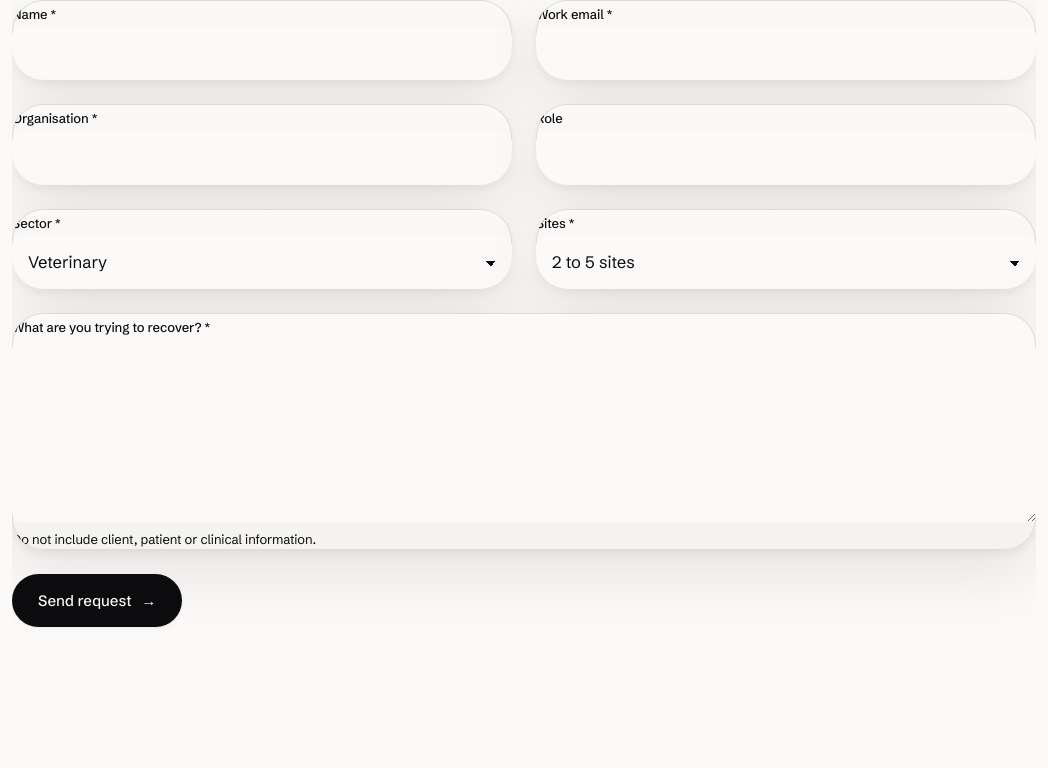
Test: AssessmentForm — configured › reports a network failure rather than silently succeeding
Step 1. Type "Jordan Ellis" into the field labelled "Name *" → [262, 53], box [12,26,512,80]
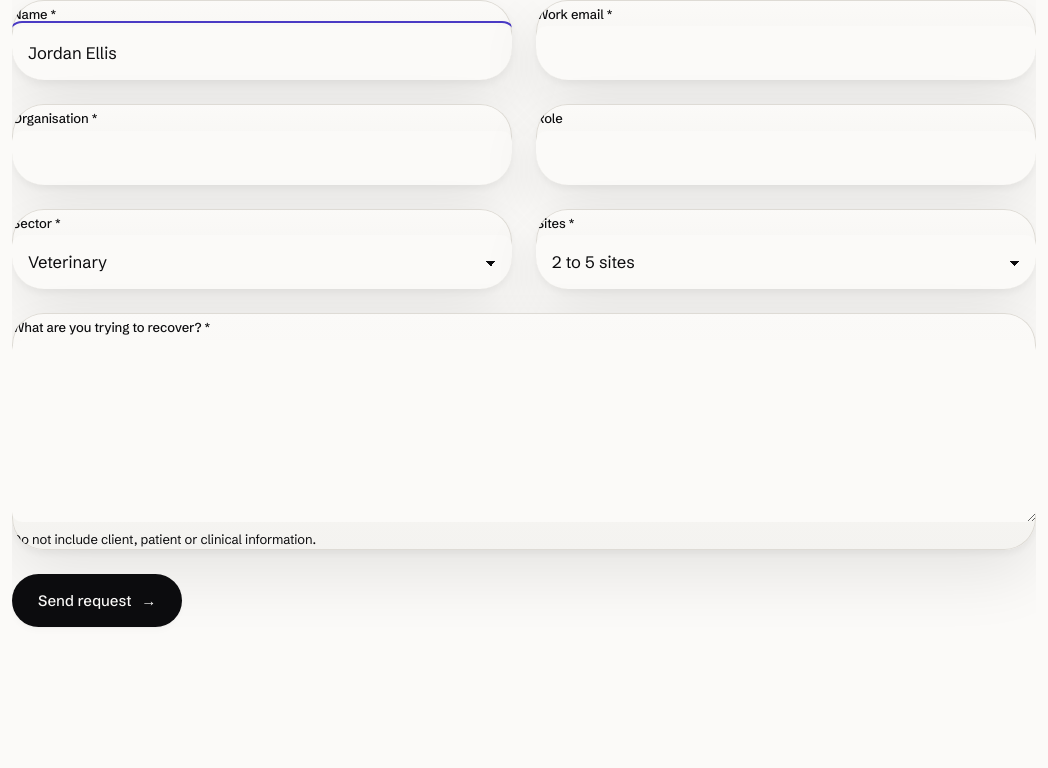
Step 2. Type "jordan@example.com" into the field labelled "Work email *" → [786, 53], box [536,26,1036,80]
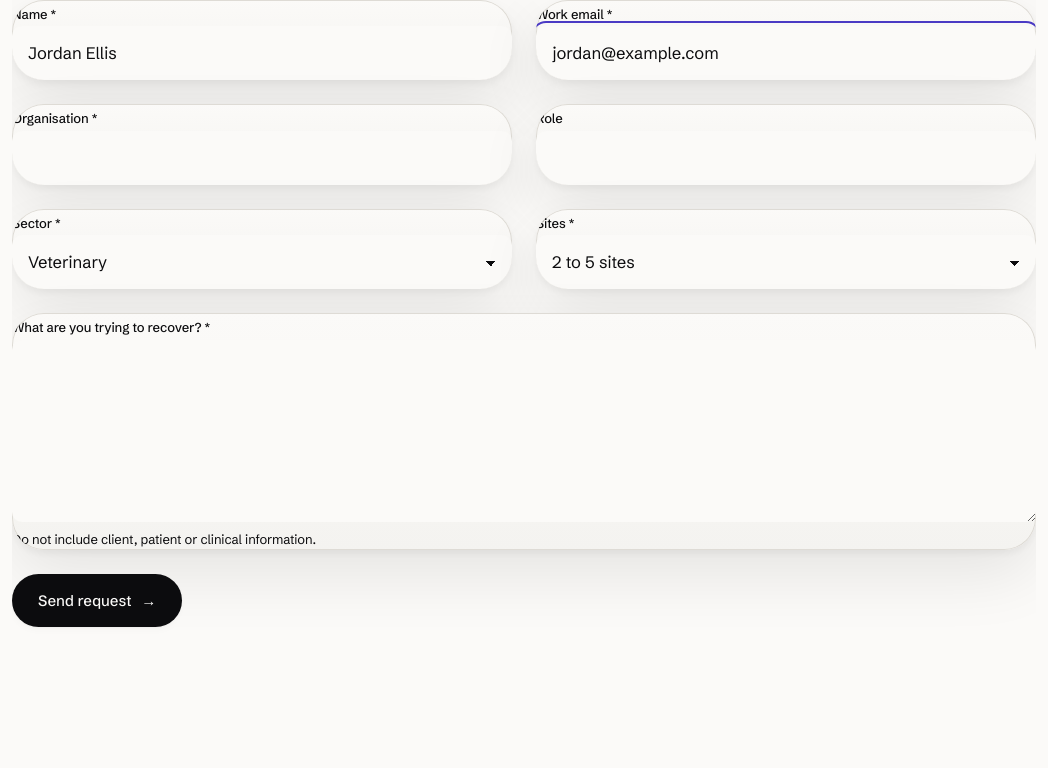
Step 3. Type "Northgate Veterinary Group" into the field labelled "Organisation *" → [262, 158], box [12,131,512,185]
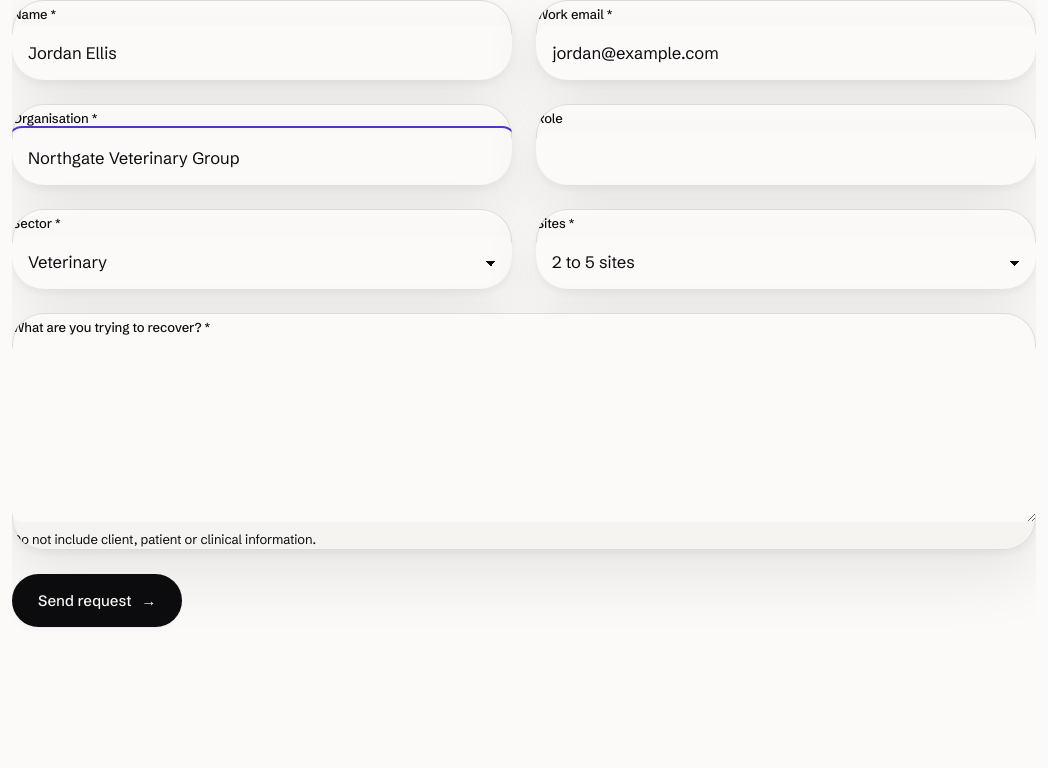
Step 4. Type "We believe we are losing after-hours calls across four sites." into the text box labelled "What are you trying to recover? *" → [524, 431], box [12,340,1036,522]
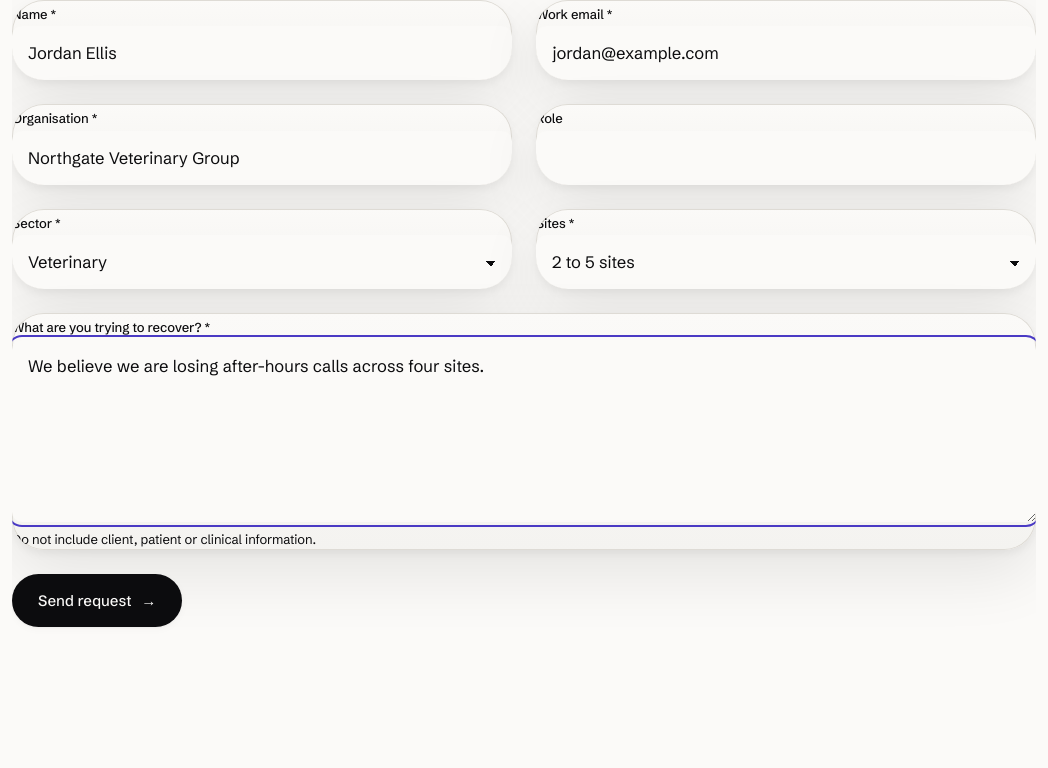
Step 5. Click the button "Send request →" → [97, 601], box [12,574,182,627]
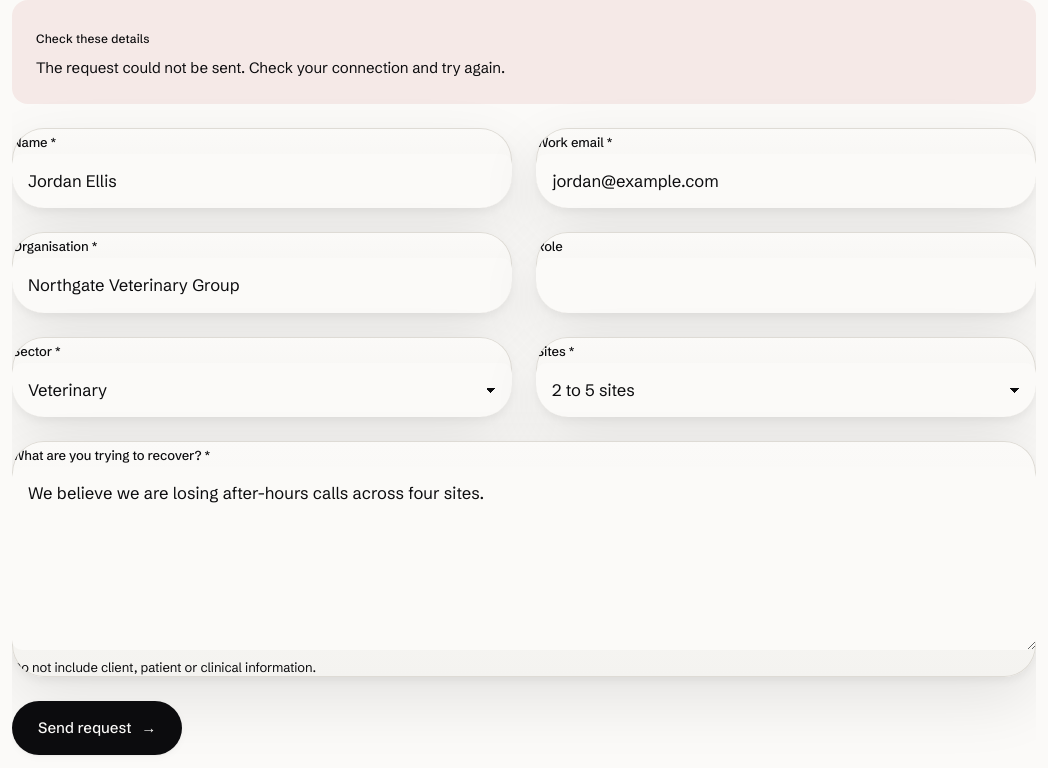
Expected: the message shows "could not be sent", [36,58,505,77]
